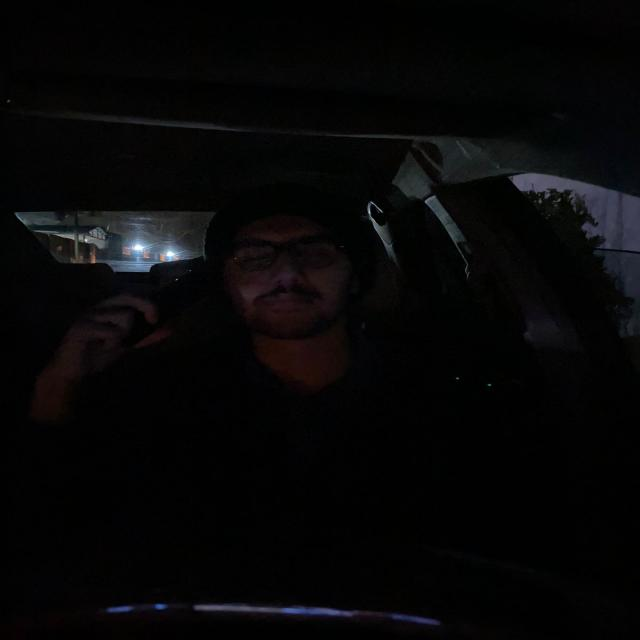mobile: (117, 266, 205, 360)
person: (204, 194, 380, 362)
